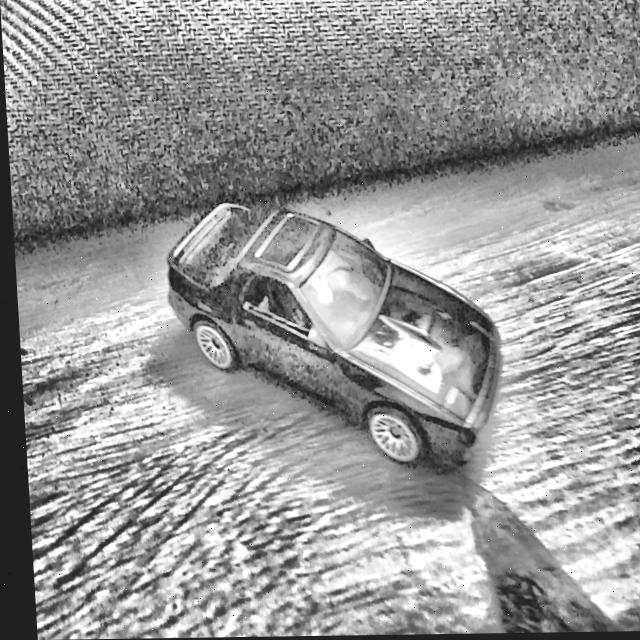car: (159, 199, 501, 475)
